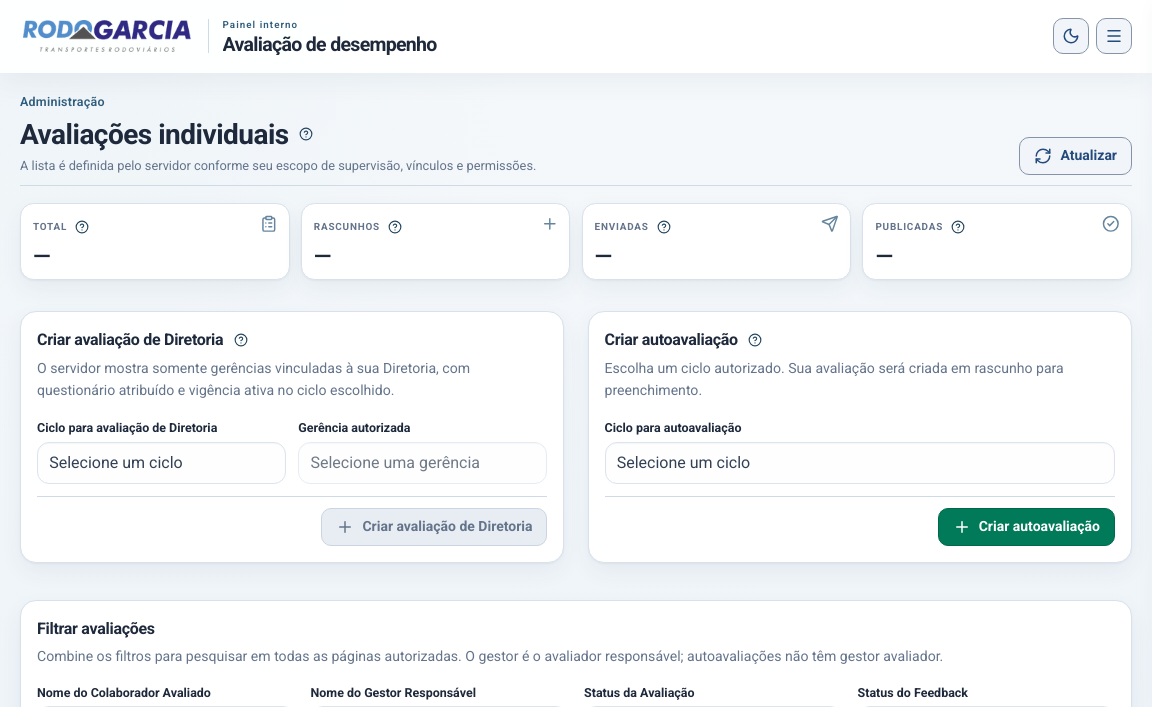
Test: App › DIRETORIA: remove a opção de DIRETORIA_GERENCIA após criar e voltar pela navegação real
expect the dropdown labelled "Ciclo para autoavaliação" is shown: met, box [604,442,1115,484]
Select "Ciclo fictício dos perfis" in the dropdown labelled "Ciclo para avaliação de Diretoria" at (162, 463), box [37,442,286,484]
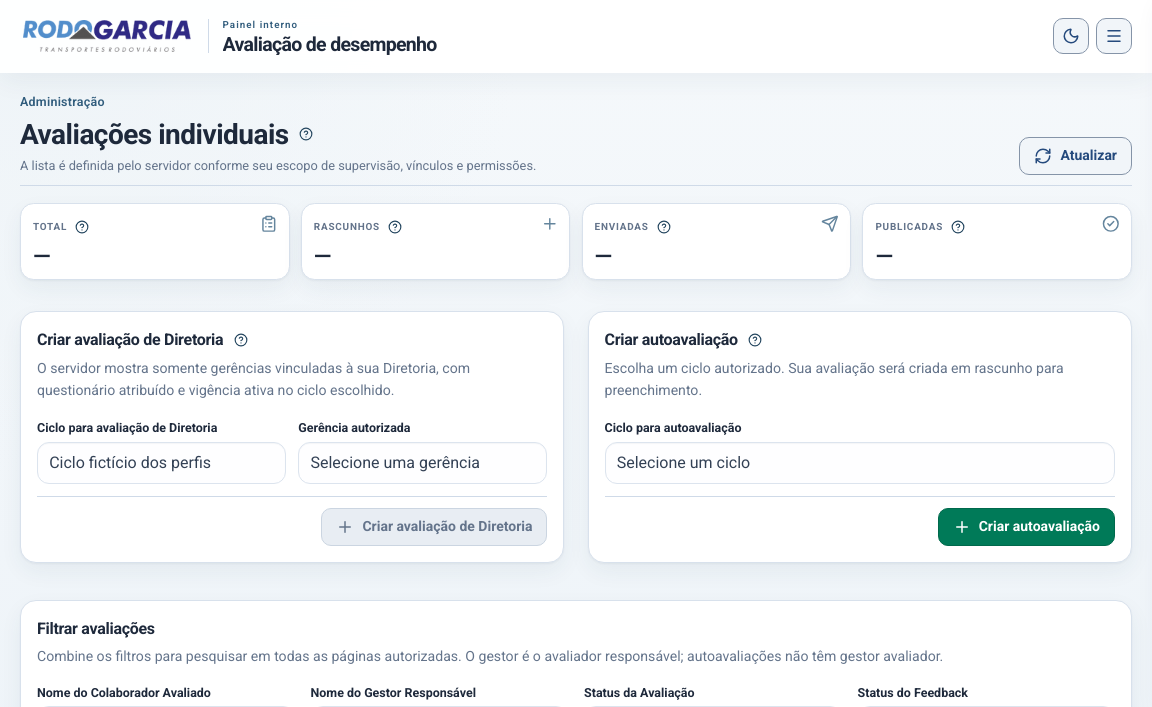
expect the dropdown labelled "Gerência autorizada" is enabled: met
Select "Pessoa fictícia vinculada" in the dropdown labelled "Gerência autorizada" at (423, 463), box [298,442,548,484]
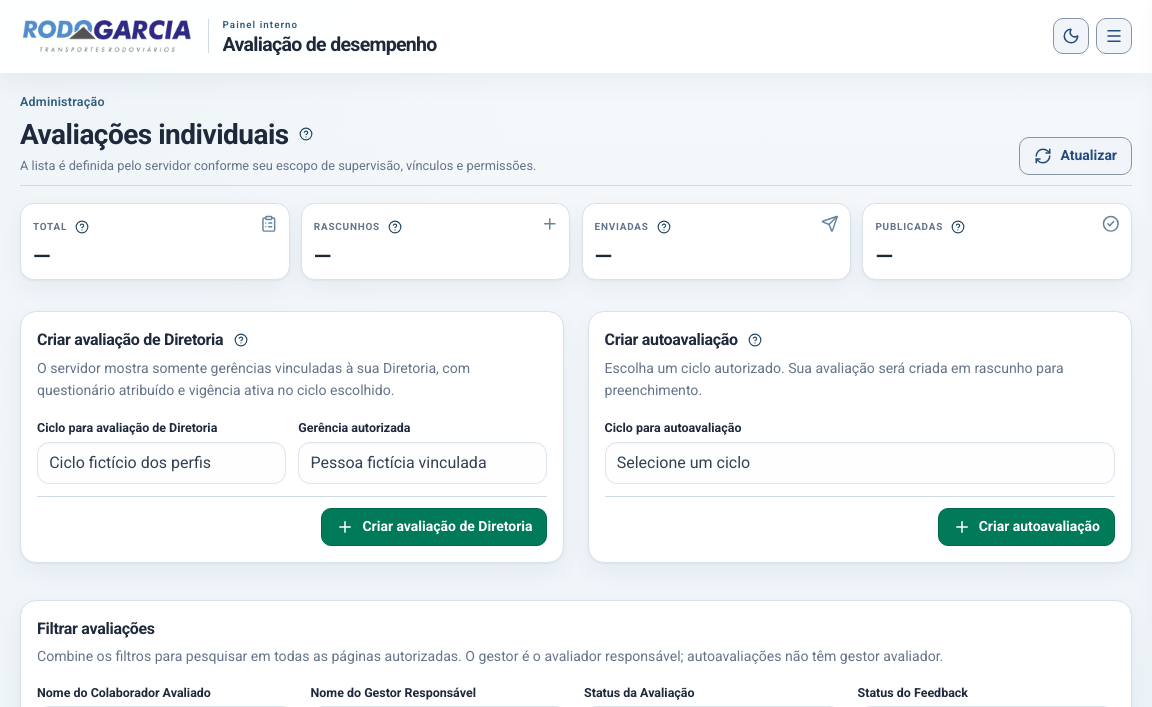
Click the button "Criar avaliação de Diretoria" at (434, 527), box [321,508,548,546]
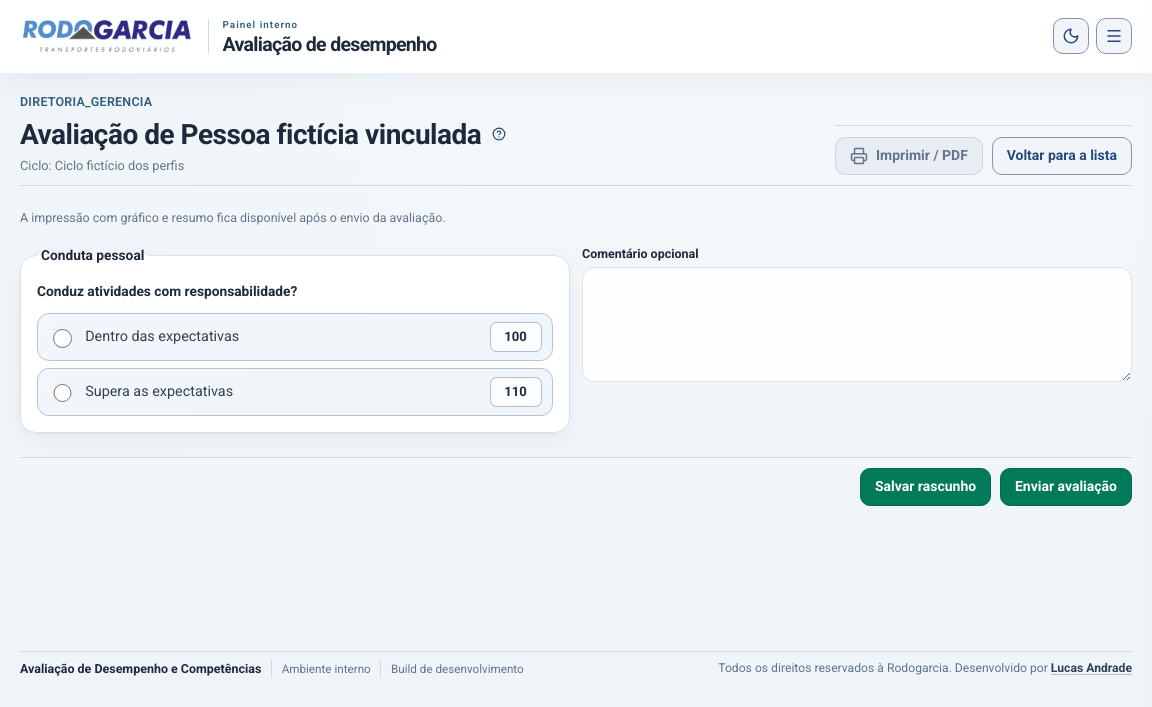
Click the button "Voltar para a lista" at (1062, 156), box [992,137,1132,175]
(page scrolled)
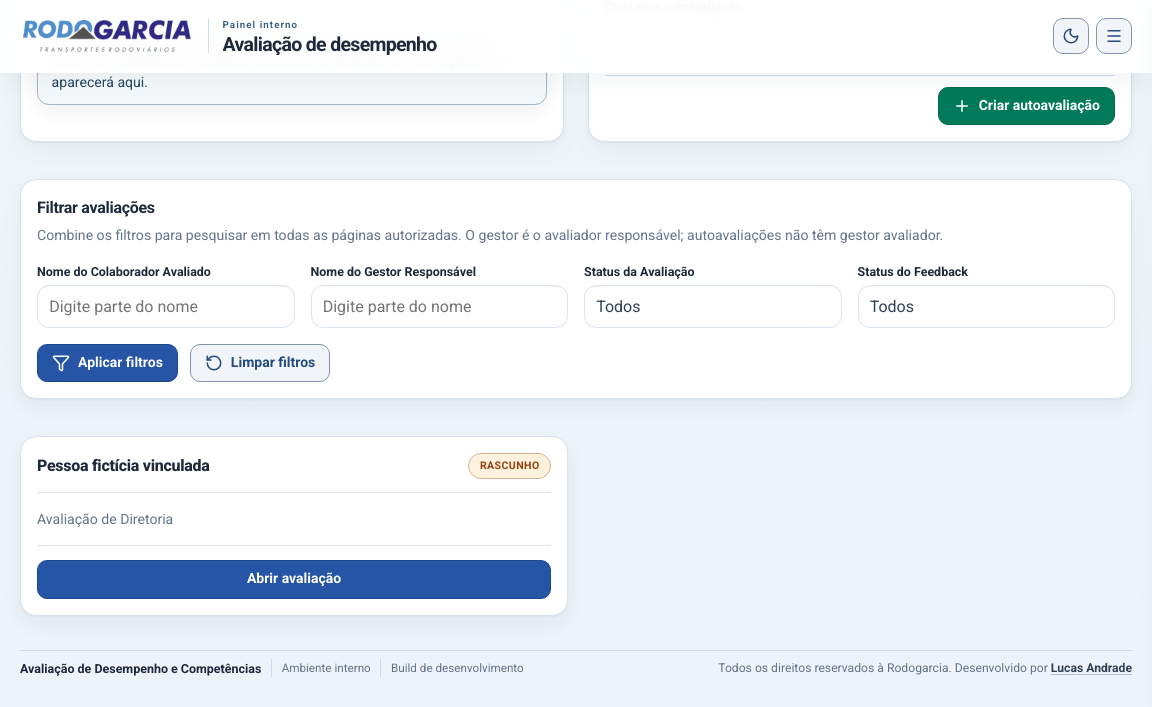
expect the dropdown labelled "Ciclo para autoavaliação" is enabled: met, box [604,21,1115,63]
expect the button "Abrir avaliação" is shown: met, box [37,560,551,599]
